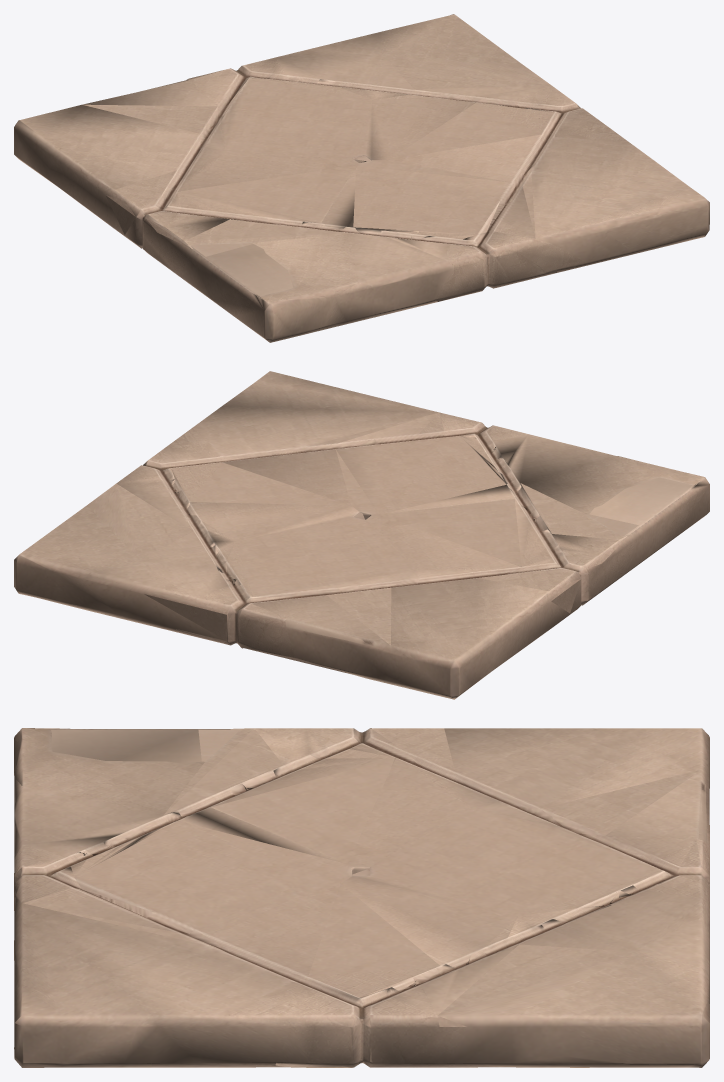
The model's file is piso-pedra.fbx.
3 renders of one model, top to bottom at view 1: azimuth 30°, elevation 25°; view 2: azimuth 150°, elevation 25°; view 3: azimuth 270°, elevation 25°, orthographic. The views are drawn at different scales.
Visible parts, largest first — view 1: mesh_node; view 2: mesh_node; view 3: mesh_node.
Part boxes in pixels (x1,y1,x2,y2): mesh_node: [14, 14, 709, 342]; mesh_node: [14, 371, 709, 699]; mesh_node: [14, 728, 709, 1067].
Bounding box in the file's own units: 190 × 16.21 × 190.
Materials: 1 (1 with a texture image).
